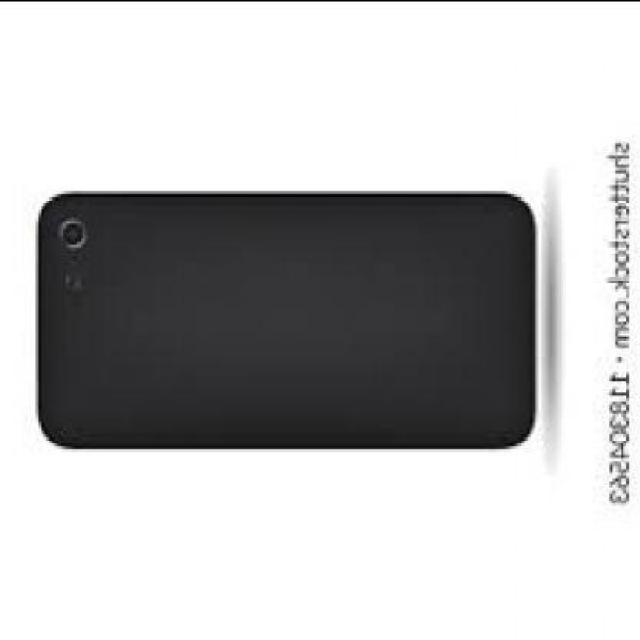cellphone: (37, 192, 534, 448)
